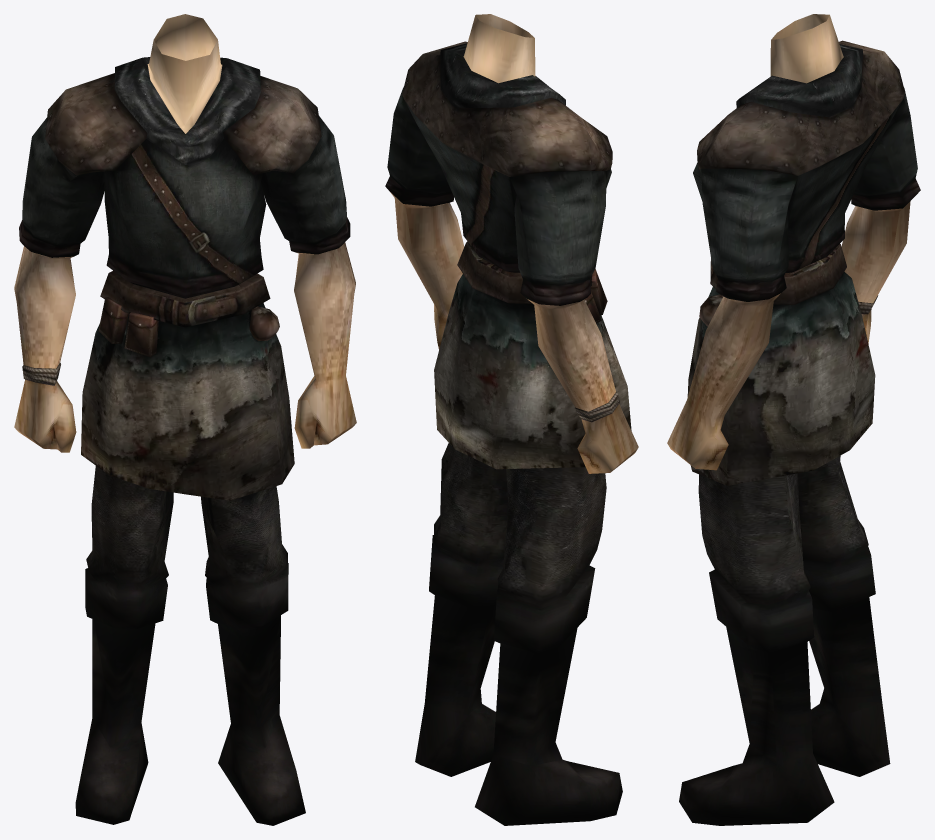
Rendered from GG_BANDITARMOR_L.glb.
3 views of the same model, side by side, from view 1: azimuth 30°, elevation 25°; view 2: azimuth 150°, elevation 25°; view 3: azimuth 270°, elevation 25° (orthographic).
Parts seen in each view (by area): view 1: GG_BANDITARMOR_L; view 2: GG_BANDITARMOR_L; view 3: GG_BANDITARMOR_L.
Boxes of the visible parts, x1,y1,x2,y2 form: GG_BANDITARMOR_L: (14, 14, 356, 825); GG_BANDITARMOR_L: (385, 14, 638, 825); GG_BANDITARMOR_L: (667, 14, 920, 825).
Bounding box in the file's own units: 0.6458 × 1.69 × 0.5022.
Materials: 2 (2 with a texture image).
